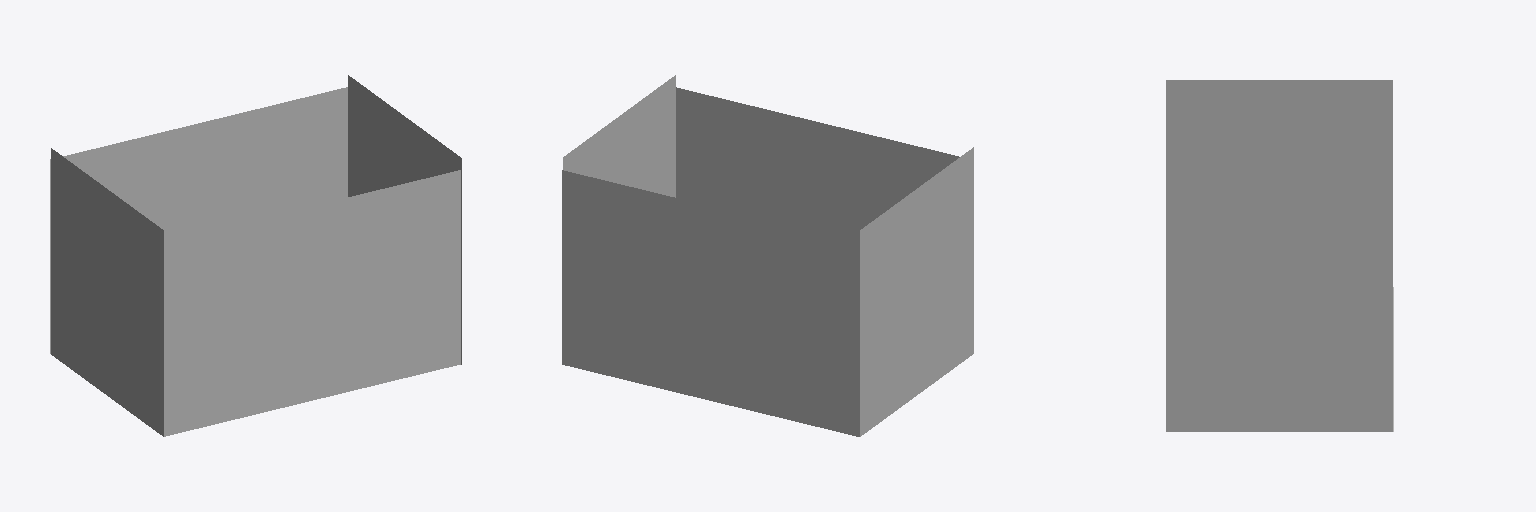
Rendered from restaurant.obj.
3 renders of one model, left to right at view 1: azimuth 30°, elevation 25°; view 2: azimuth 150°, elevation 25°; view 3: azimuth 270°, elevation 25°, orthographic.
Parts seen in each view (by area): view 1: Plane.001_Plane.006, Plane.004, Plane.005, Plane.002; view 2: Plane.004, Plane.001_Plane.006, Plane.005, Plane.002; view 3: Plane.002, Plane.005.
Boxes of the visible parts, x1,y1,x2,y2 form: Plane.001_Plane.006: [164, 170, 460, 436]; Plane.004: [50, 87, 347, 353]; Plane.005: [51, 148, 163, 436]; Plane.002: [348, 75, 461, 364]; Plane.004: [562, 170, 859, 436]; Plane.001_Plane.006: [676, 87, 959, 242]; Plane.005: [860, 147, 973, 436]; Plane.002: [563, 75, 675, 197]; Plane.002: [1166, 225, 1392, 431]; Plane.005: [1166, 80, 1392, 224].
Size of the model in its own units: 43.88 by 29.15 by 29.03.